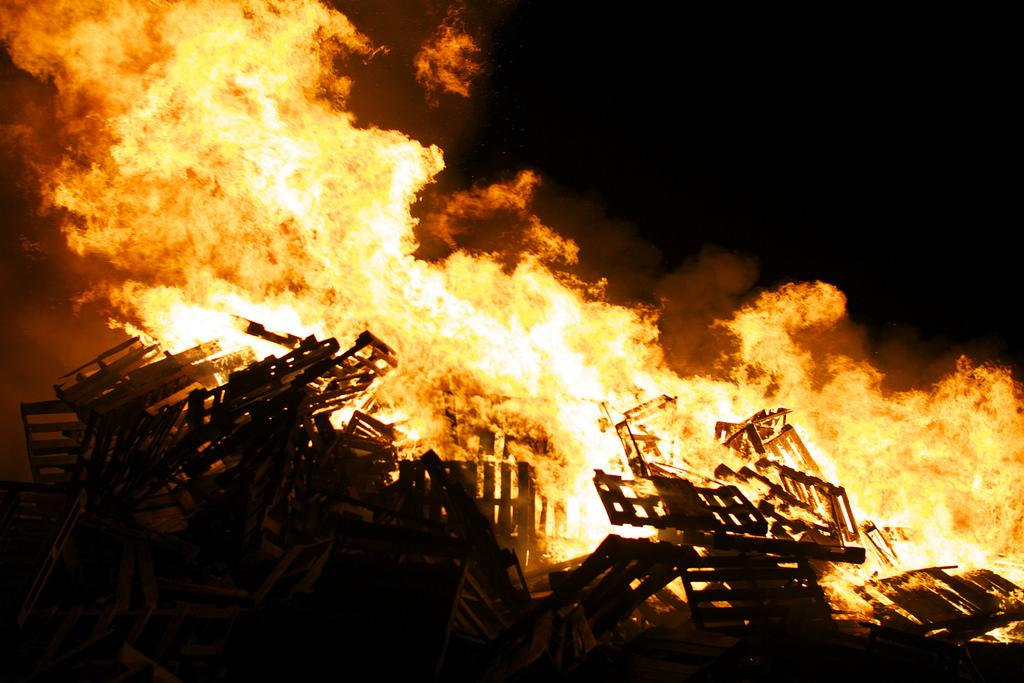fire: (73, 17, 307, 240), (422, 280, 593, 417), (863, 415, 1024, 545), (313, 152, 395, 303)
